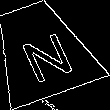N_N: (10, 19, 73, 81)
